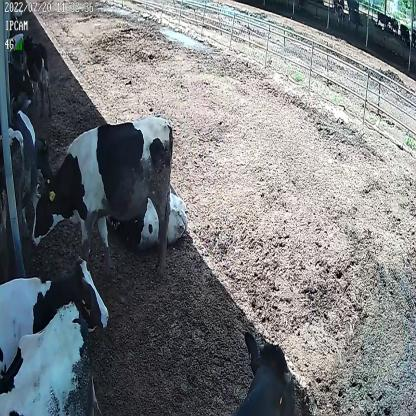cow: (29, 116, 174, 283)
